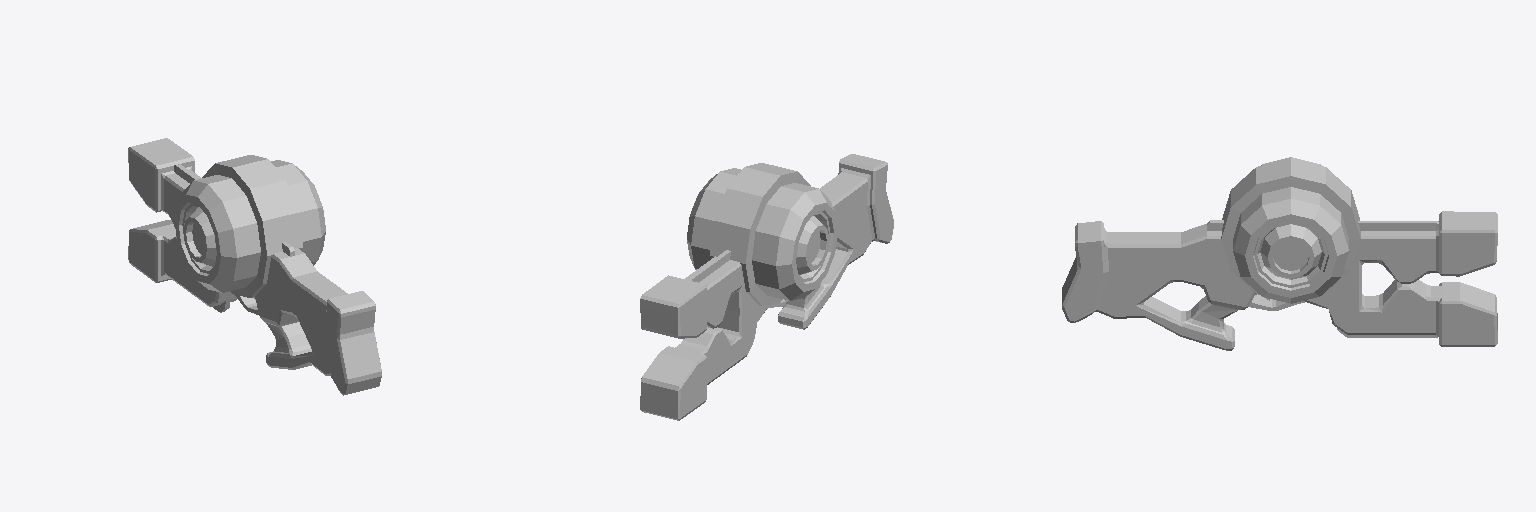
The model's file is Lightning Gun.obj.
3 renders of one model, left to right at view 1: azimuth 30°, elevation 25°; view 2: azimuth 150°, elevation 25°; view 3: azimuth 270°, elevation 25°, orthographic.
Parts seen in each view (by area): view 1: Lightning_Gun_Cube; view 2: Lightning_Gun_Cube; view 3: Lightning_Gun_Cube.
Boxes of the visible parts, x1,y1,x2,y2 form: Lightning_Gun_Cube: [128, 138, 381, 395]; Lightning_Gun_Cube: [640, 154, 893, 420]; Lightning_Gun_Cube: [1062, 157, 1497, 350].
Bounding box in the file's own units: 1.4 × 2.16 × 4.8.